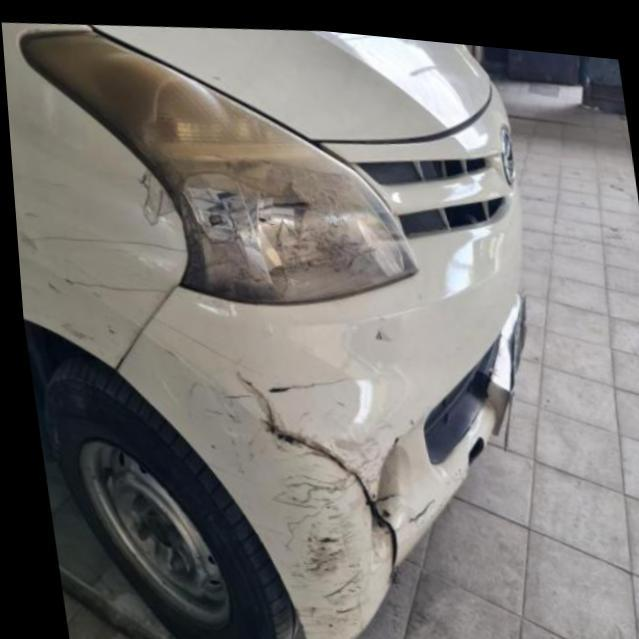crack: (238, 370, 393, 571)
lamp broken: (117, 120, 378, 308)
rub: (216, 358, 430, 639)
